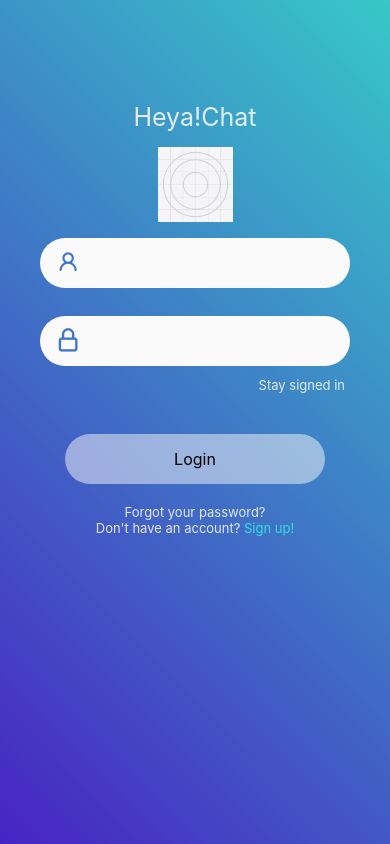
AuthorizationPage › can change to register page
Click the text "Don't have an account? Sign up!" at (195, 528), box [96,520,294,536]
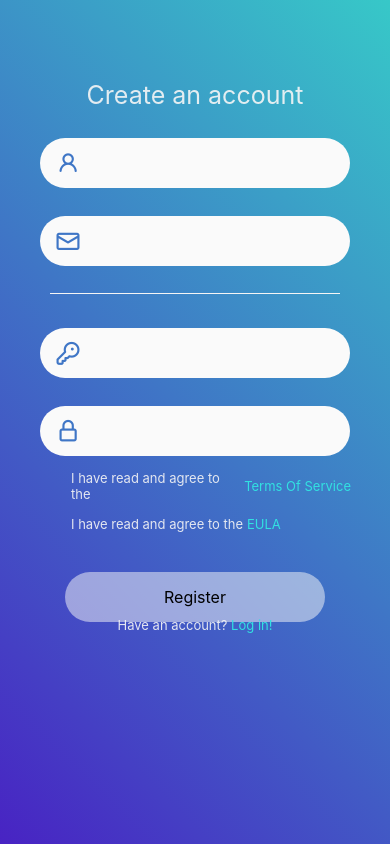
Result: the text "Create an account" is shown at [87,80,303,110]
